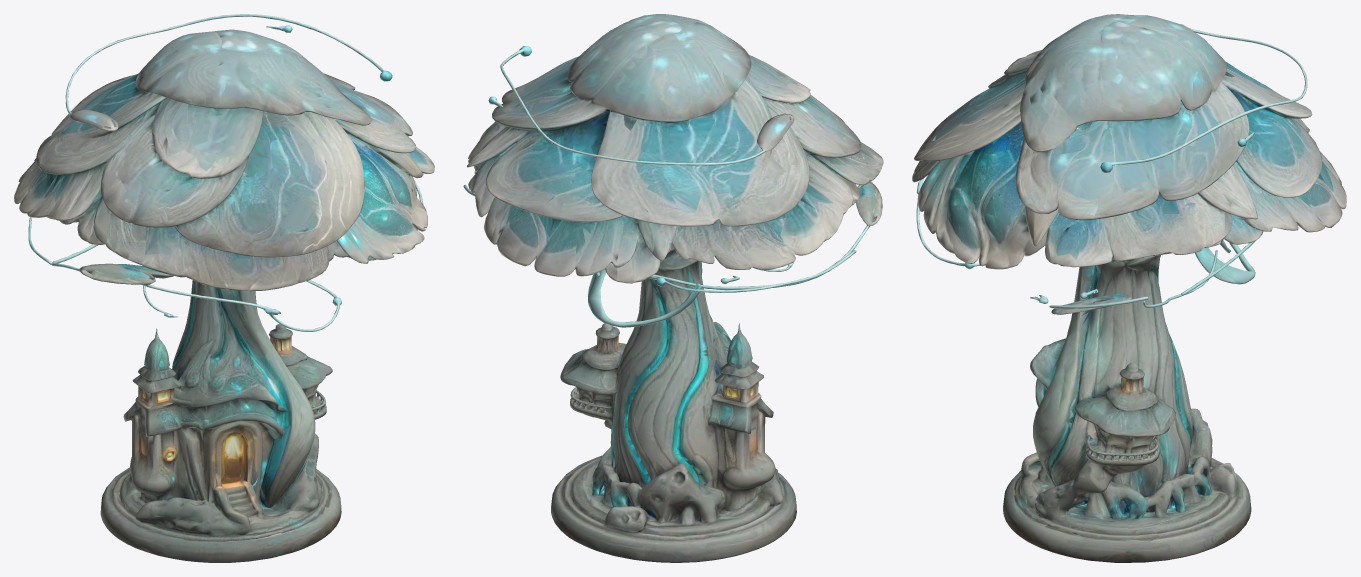
The model's file is Nova_Shroom_2.glb.
3 renders of one model, left to right at view 1: azimuth 30°, elevation 25°; view 2: azimuth 150°, elevation 25°; view 3: azimuth 270°, elevation 25°, orthographic. The views are drawn at different scales.
Parts seen in each view (by area): view 1: Nova_Shroom_2; view 2: Nova_Shroom_2; view 3: Nova_Shroom_2.
Part boxes in pixels (x1,y1,x2,y2): Nova_Shroom_2: (14, 14, 434, 562); Nova_Shroom_2: (463, 14, 883, 562); Nova_Shroom_2: (912, 14, 1346, 562).
Size of the model in its own units: 1.53 by 1.9 by 1.53.
Materials: 1 (1 with a texture image).
